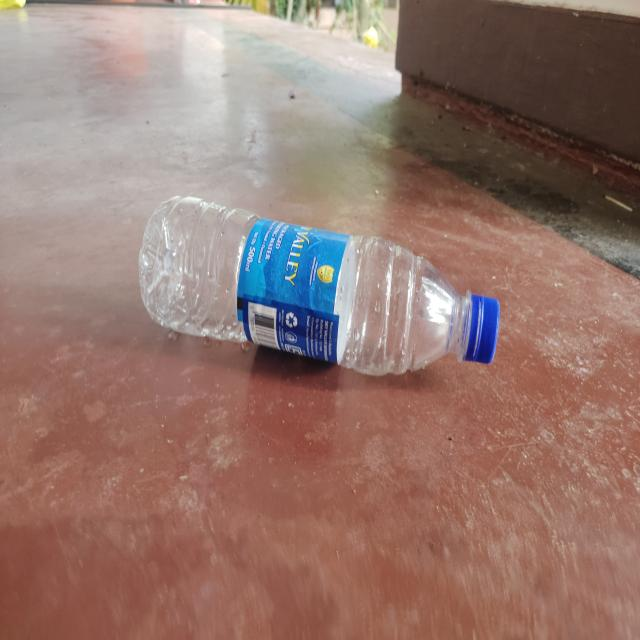plastic: (138, 189, 500, 391)
